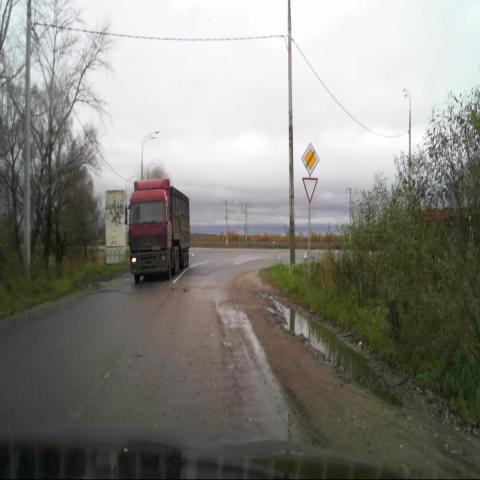2_2: (300, 142, 320, 177)
